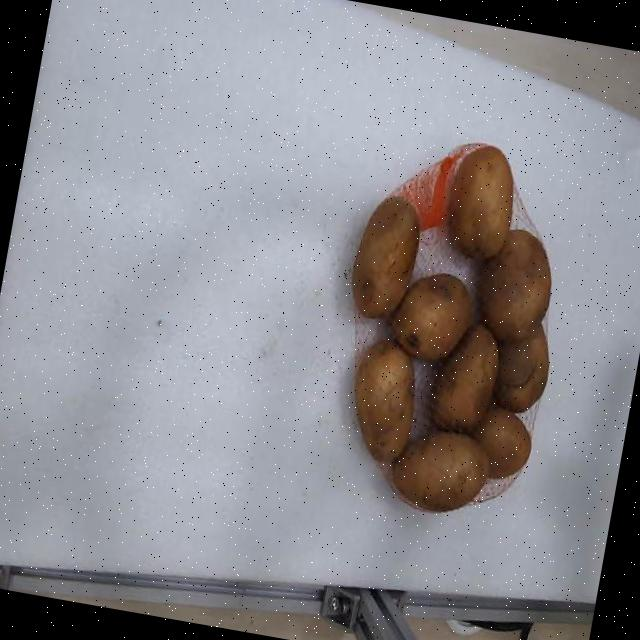potato: (351, 196, 420, 317), (478, 229, 551, 341), (447, 145, 513, 258), (393, 433, 488, 511), (354, 340, 414, 461), (430, 325, 498, 431), (392, 273, 471, 361), (494, 327, 548, 412), (473, 408, 531, 478)
